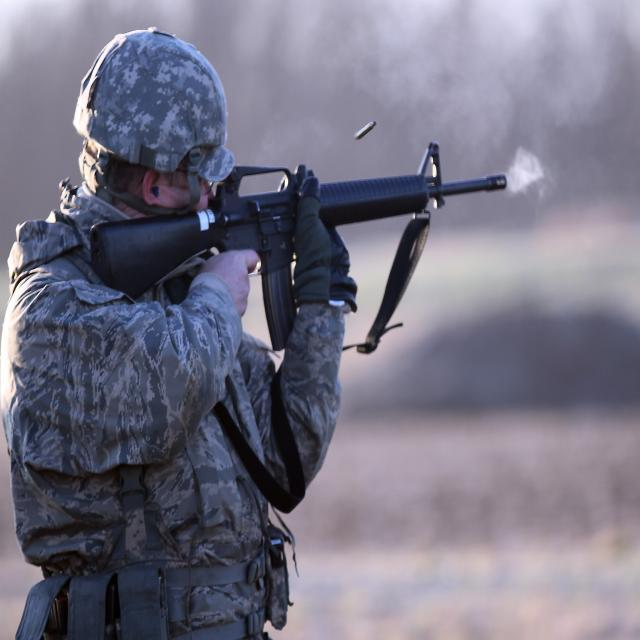Rifle: (88, 139, 516, 354)
